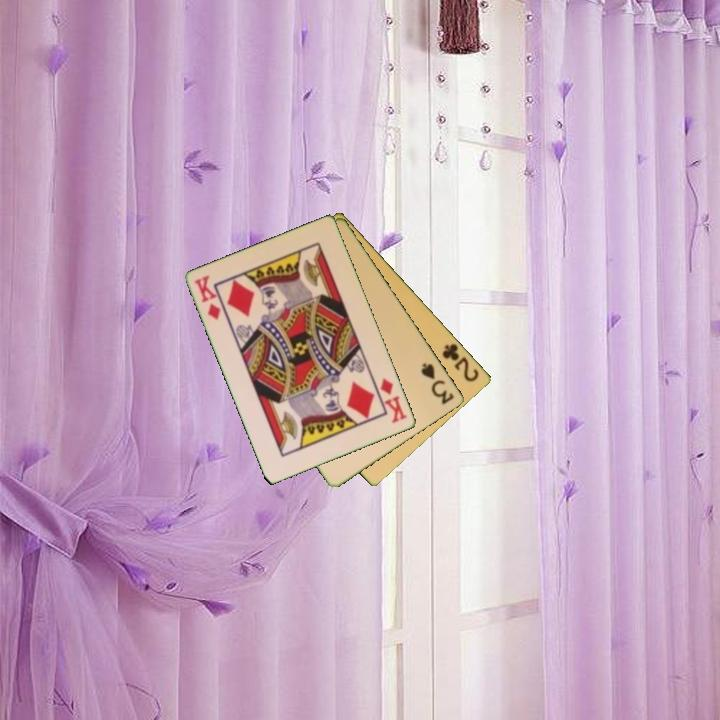2c: (439, 340, 482, 385)
3s: (418, 359, 457, 408)
Kd: (377, 374, 410, 426), (191, 272, 224, 323)
